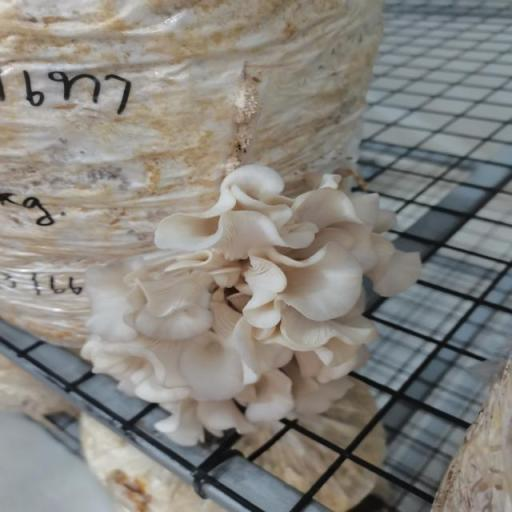White Oyster Mushroom: (80, 153, 432, 441)
